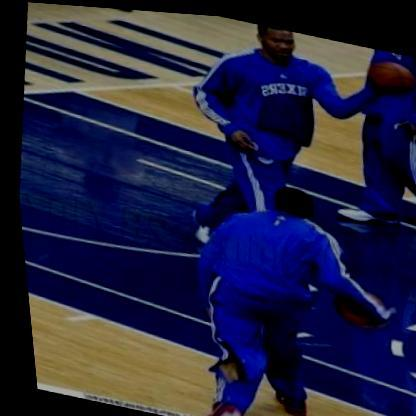basketball: (327, 282, 385, 325), (367, 49, 416, 93)
